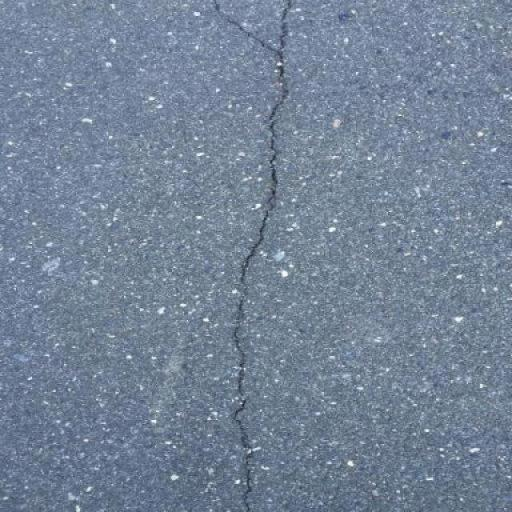moderate crack: (203, 3, 298, 496), (153, 345, 192, 421), (336, 1, 382, 59), (492, 449, 508, 496), (57, 142, 76, 161), (68, 494, 81, 510), (499, 179, 511, 186)
severe crack: (1, 3, 209, 268), (285, 2, 512, 174), (370, 304, 512, 512), (208, 1, 288, 60), (234, 238, 262, 307), (237, 443, 256, 504)
